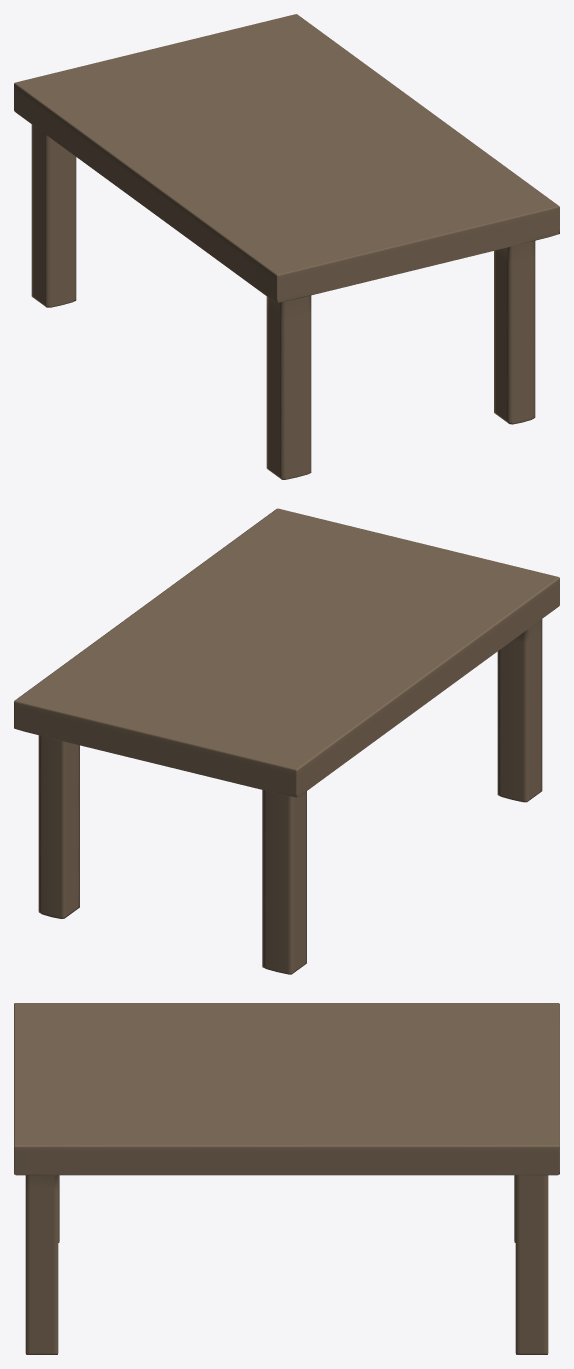
Rendered from Table2.fbx.
3 renders of one model, top to bottom at view 1: azimuth 30°, elevation 25°; view 2: azimuth 150°, elevation 25°; view 3: azimuth 270°, elevation 25°, orthographic. The views are drawn at different scales.
Visible parts, largest first — view 1: pCube60; view 2: pCube60; view 3: pCube60.
Boxes of the visible parts, bbox=[...] form: pCube60: bbox=[14, 14, 559, 479]; pCube60: bbox=[14, 508, 559, 974]; pCube60: bbox=[14, 1003, 559, 1354].
Bounding box in the file's own units: 16.58 × 11.93 × 26.69.
